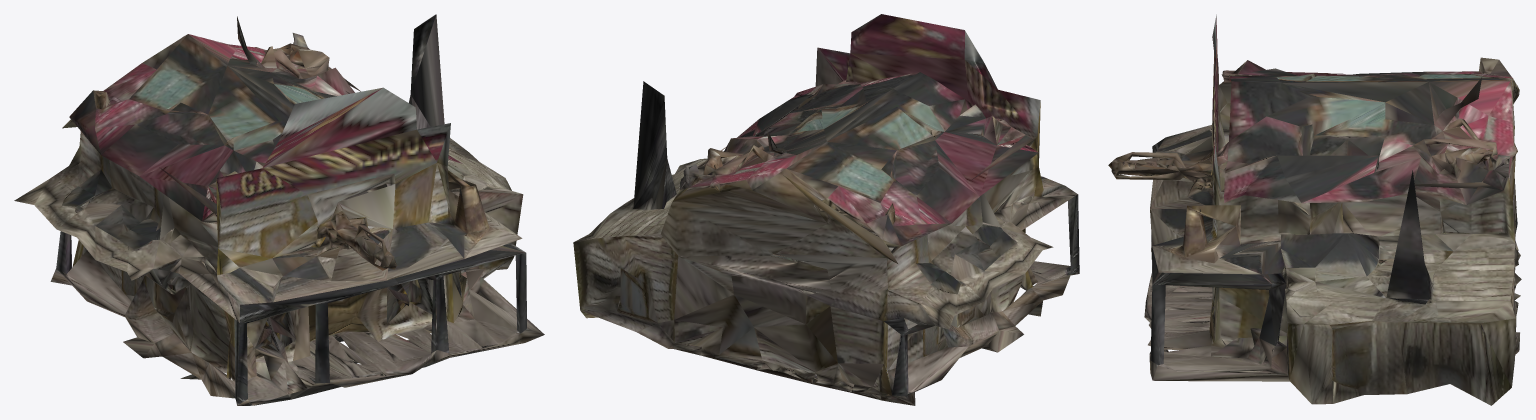
File: saloon.glb
The picture shows the model from 3 angles, left to right: view 1: azimuth 30°, elevation 25°; view 2: azimuth 150°, elevation 25°; view 3: azimuth 270°, elevation 25°; orthographic projection. The views are drawn at different scales.
Parts seen in each view (by area): view 1: mesh_node; view 2: mesh_node; view 3: mesh_node.
Part boxes in pixels (x1=…): mesh_node: x1=14, y1=14, x2=544, y2=405; mesh_node: x1=573, y1=14, x2=1079, y2=405; mesh_node: x1=1108, y1=14, x2=1521, y2=405.
Size of the model in its own units: 1.86 by 1.19 by 1.67.
1 material, 1 textured.
